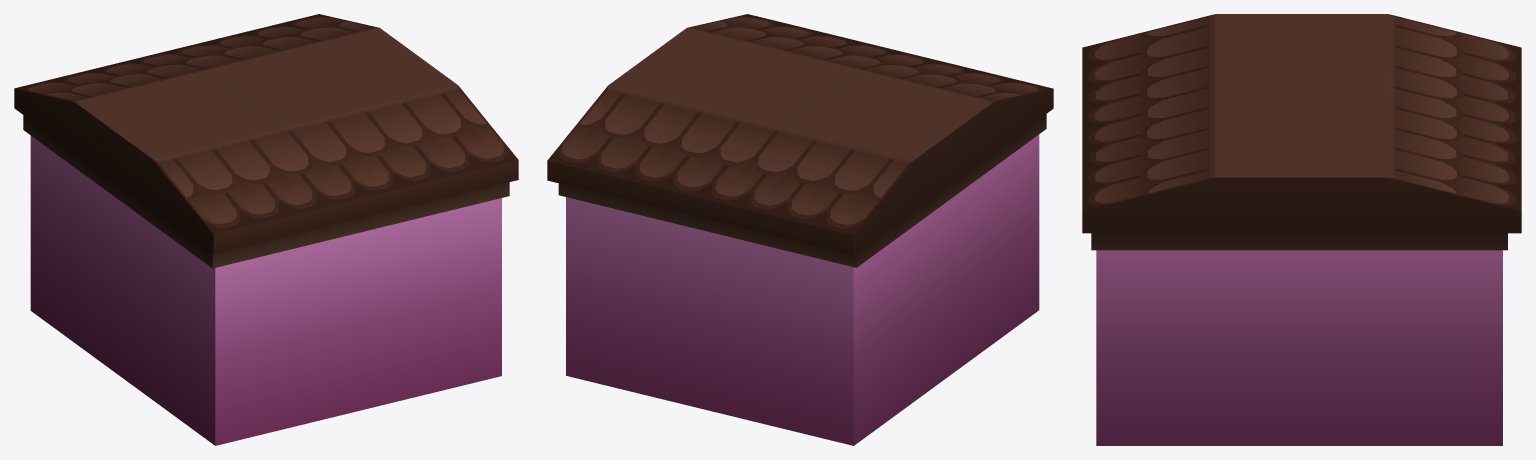
Rendered from Building_Main_04A.fbx.
3 renders of one model, left to right at view 1: azimuth 30°, elevation 25°; view 2: azimuth 150°, elevation 25°; view 3: azimuth 270°, elevation 25°, orthographic. The views are drawn at different scales.
Visible parts, largest first — view 1: Building_Main_04A; view 2: Building_Main_04A; view 3: Building_Main_04A.
Part boxes in pixels (left/top/right/bottom): Building_Main_04A: left=14, top=14, right=518, bottom=445; Building_Main_04A: left=547, top=14, right=1053, bottom=445; Building_Main_04A: left=1082, top=14, right=1521, bottom=445.
Size of the model in its own units: 634 by 494 by 718.
2 materials, 2 textured.
